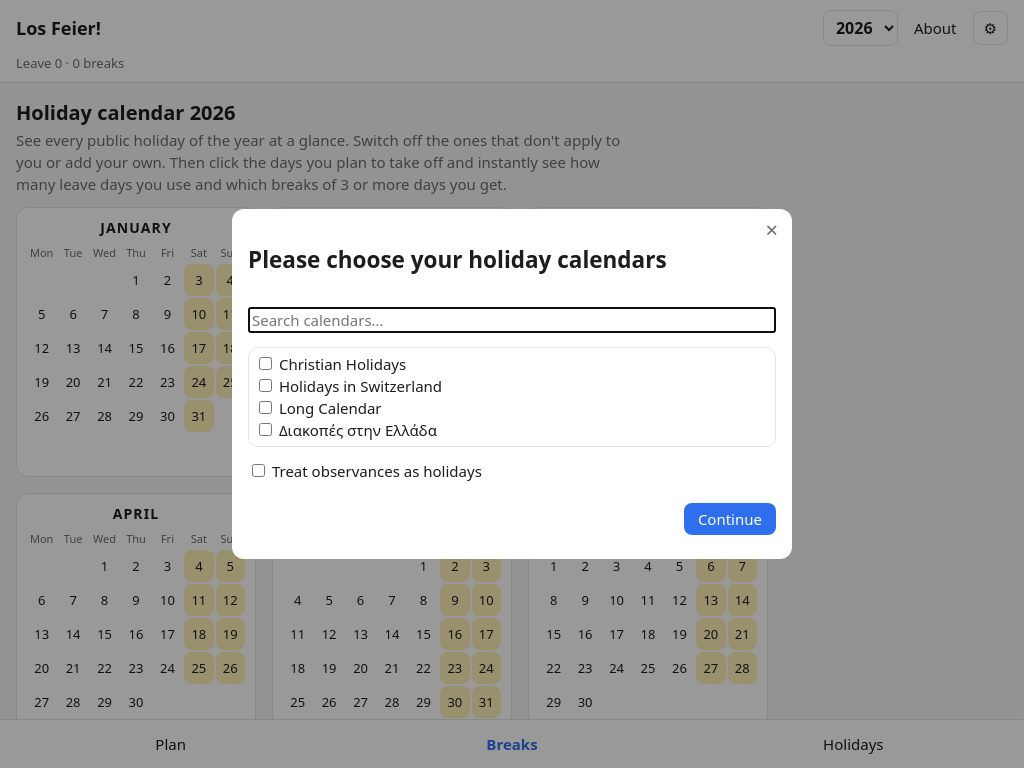
App › REVIEW FOCUS: first run without a suggestion, closed with Escape, saves an empty profile and does not reopen
Press Escape
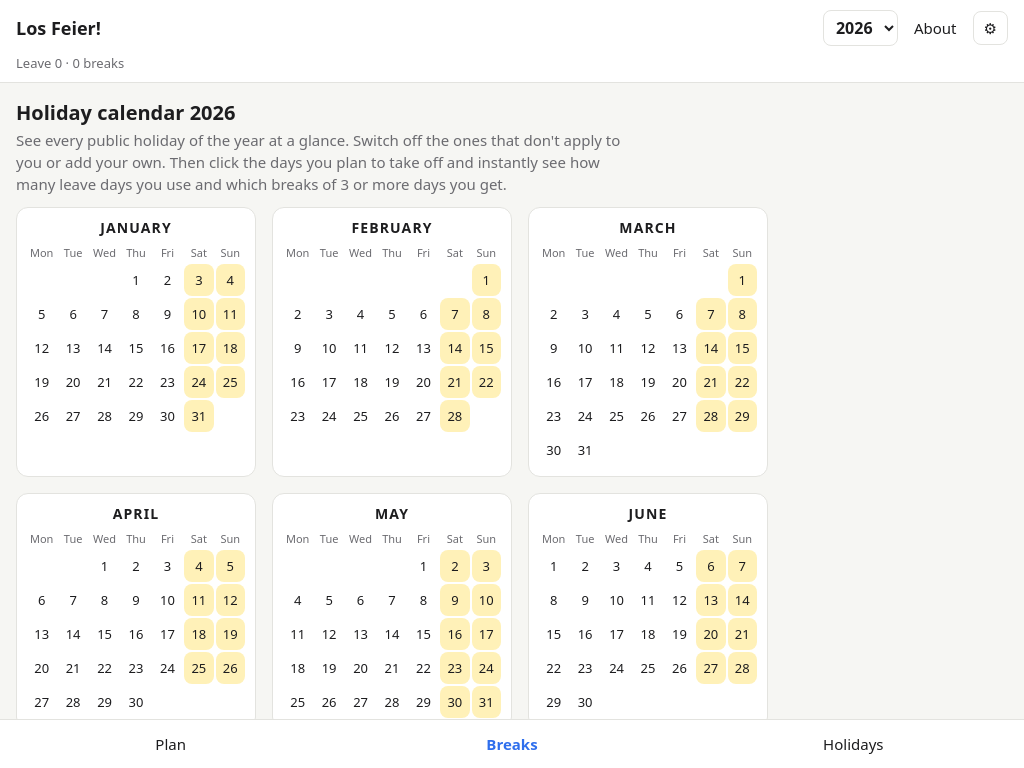
Expected: the dialog is gone
Click the button "7" below "April" at (73, 600), box top-left (58, 584), bottom-right (88, 616)
(page scrolled)
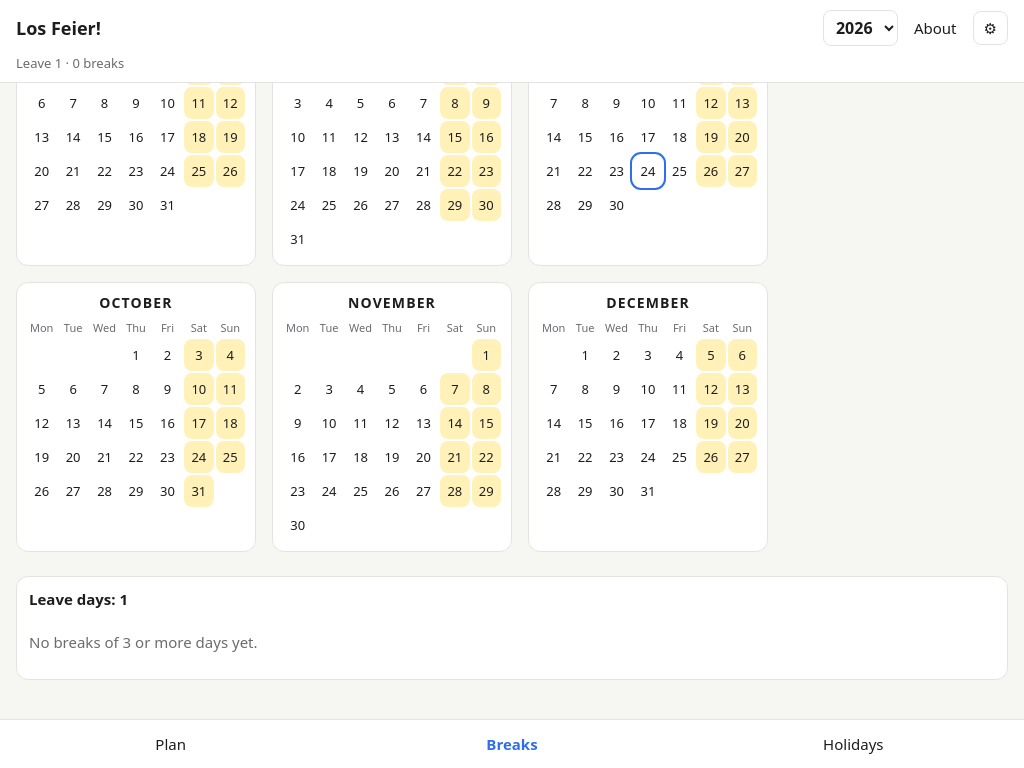
Expected: the heading "Leave days: 1" is shown, top-left (29, 589), bottom-right (128, 609)
